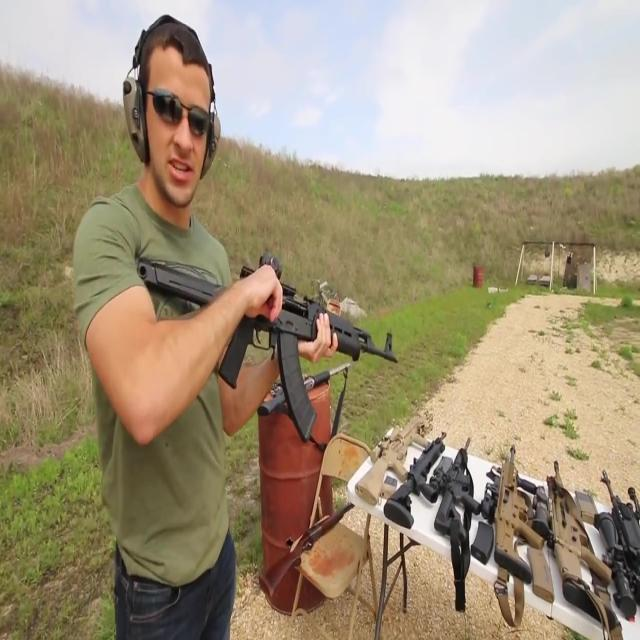Weapon: (344, 398, 640, 624), (98, 213, 402, 404), (240, 484, 366, 584)
